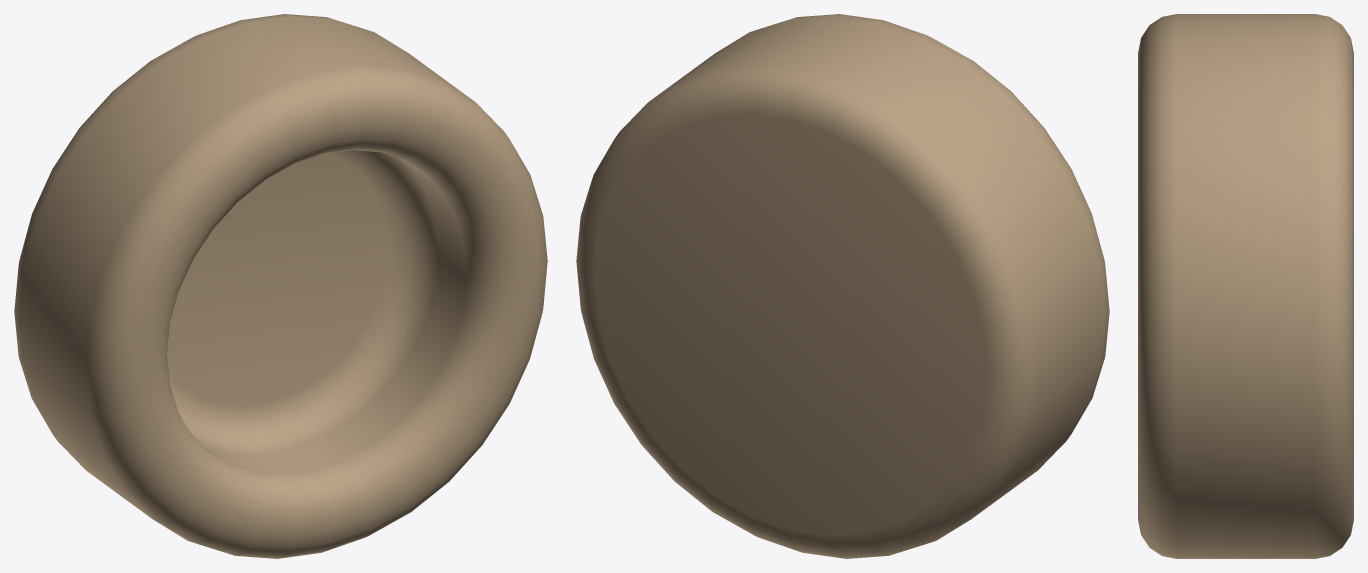
Rendered from Input-Down.fbx.
3 views of the same model, side by side, from view 1: azimuth 30°, elevation 25°; view 2: azimuth 150°, elevation 25°; view 3: azimuth 270°, elevation 25° (orthographic). The views are drawn at different scales.
Visible parts, largest first — view 1: Input-Down; view 2: Input-Down; view 3: Input-Down.
Boxes of the visible parts, bbox=[...] form: Input-Down: bbox=[14, 14, 547, 558]; Input-Down: bbox=[576, 14, 1109, 558]; Input-Down: bbox=[1138, 14, 1353, 558].
Size of the model in its own units: 0.2052 by 0.2052 by 0.0812.
